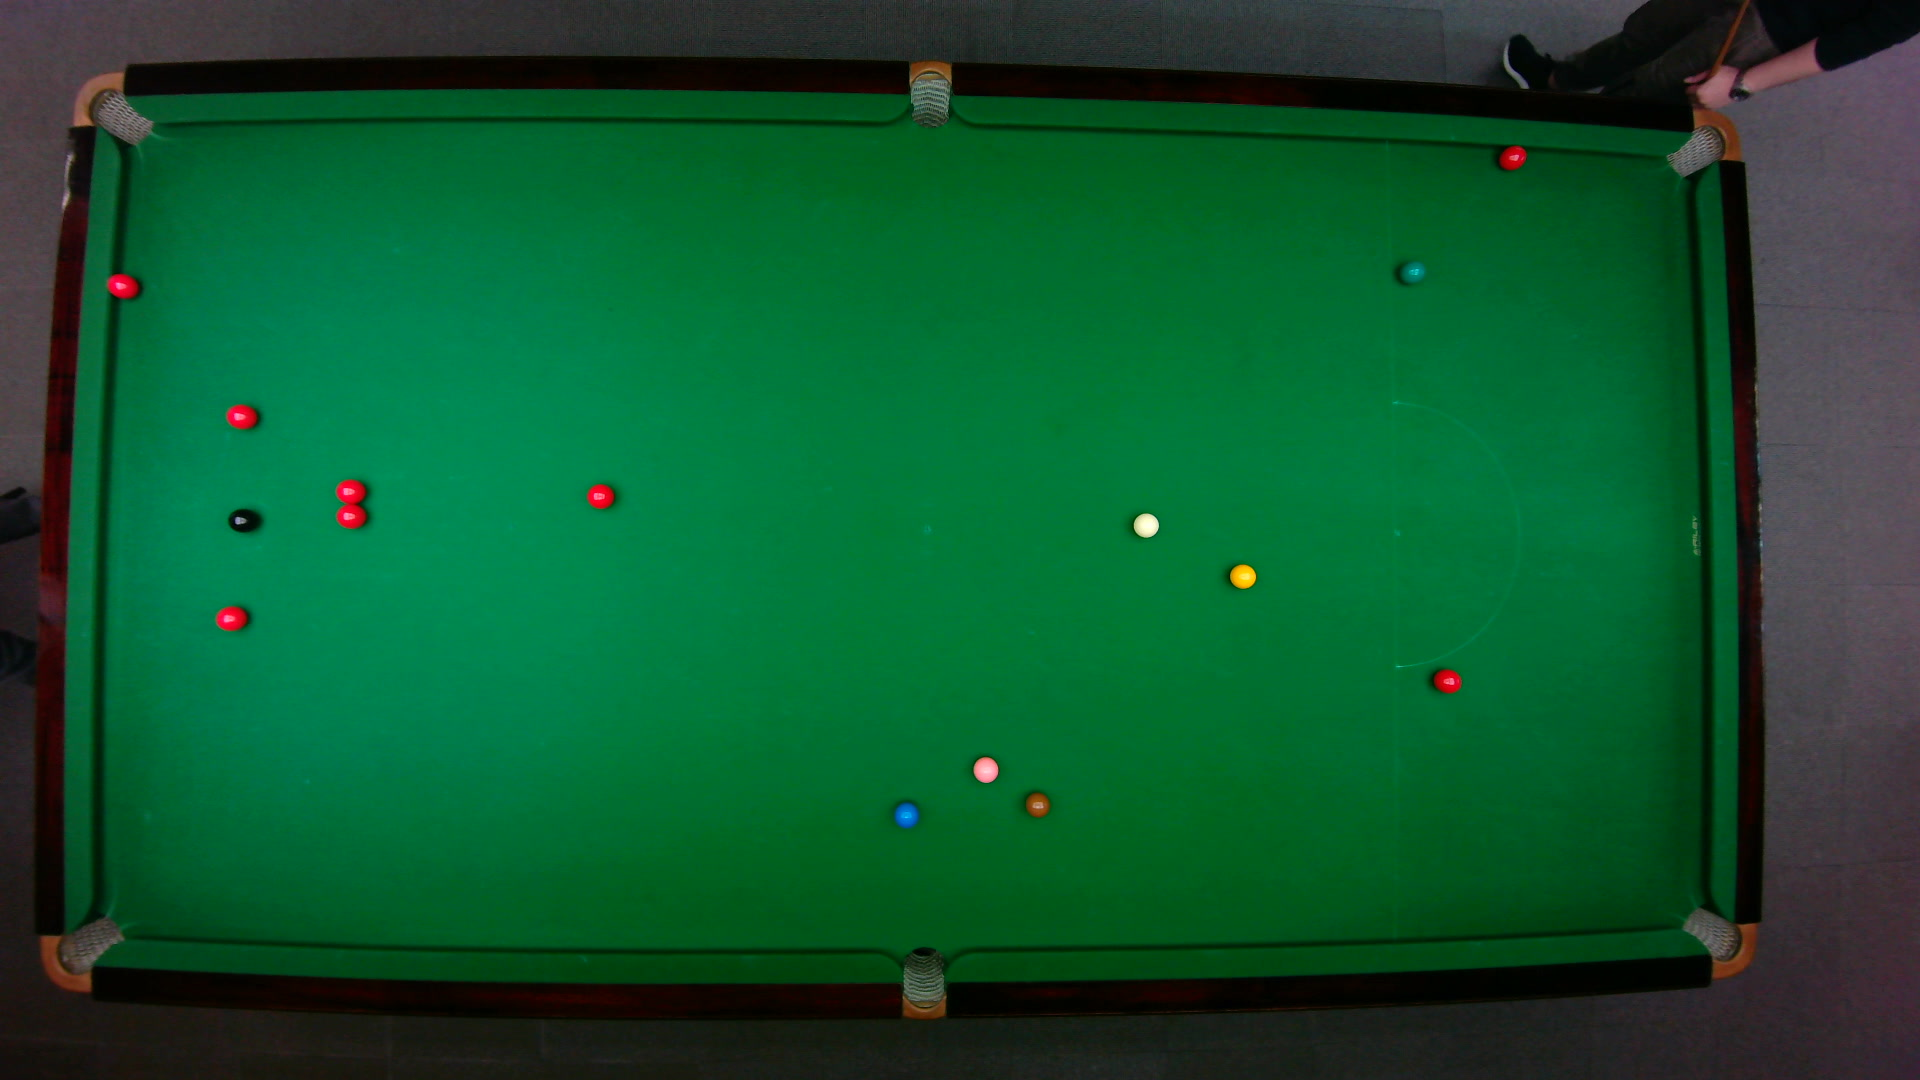bag: (38, 913, 127, 993), (70, 70, 157, 146), (1679, 905, 1758, 978), (1663, 107, 1739, 179), (902, 945, 945, 1021), (909, 59, 952, 131)
black: (225, 506, 261, 534)
blue: (891, 800, 920, 829)
brown: (1025, 791, 1052, 819)
green: (1396, 258, 1428, 286)
pink: (971, 756, 1001, 785)
red: (104, 272, 142, 301), (214, 604, 251, 633), (224, 404, 260, 431), (334, 477, 369, 504), (334, 504, 369, 530), (585, 483, 617, 512), (1497, 142, 1528, 171), (1431, 669, 1464, 695)
white: (1131, 512, 1160, 541)
yellow: (1228, 562, 1258, 591)
zone: (1389, 400, 1520, 669)
